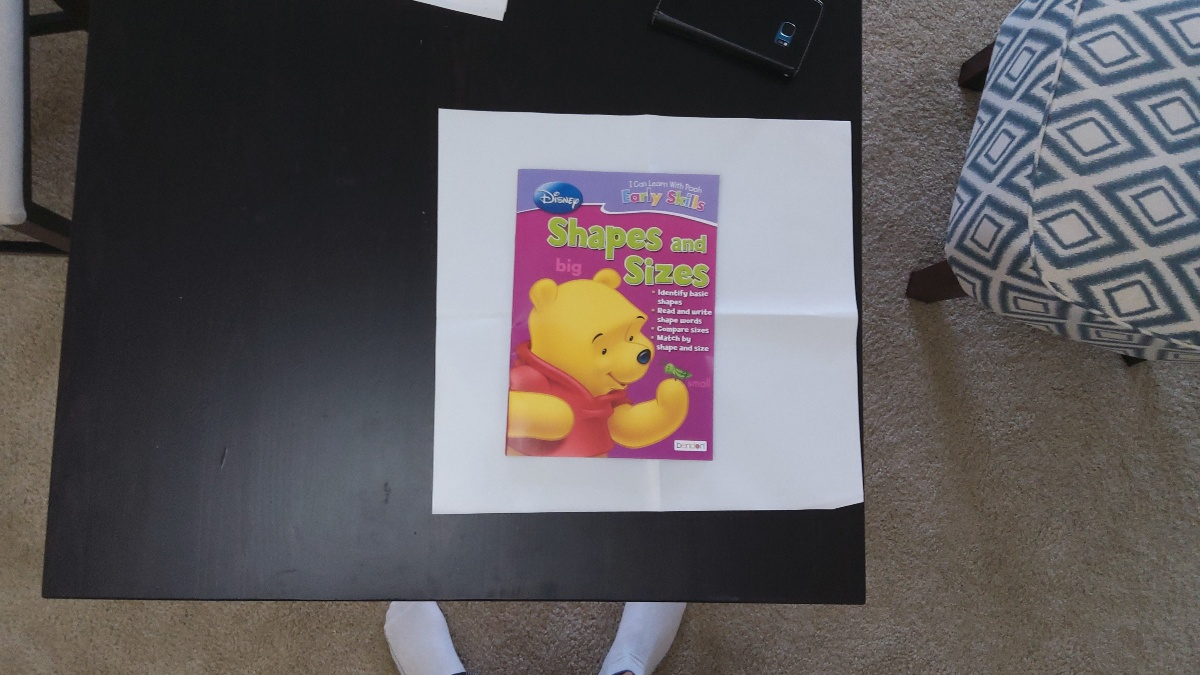book: (523, 170, 709, 461)
